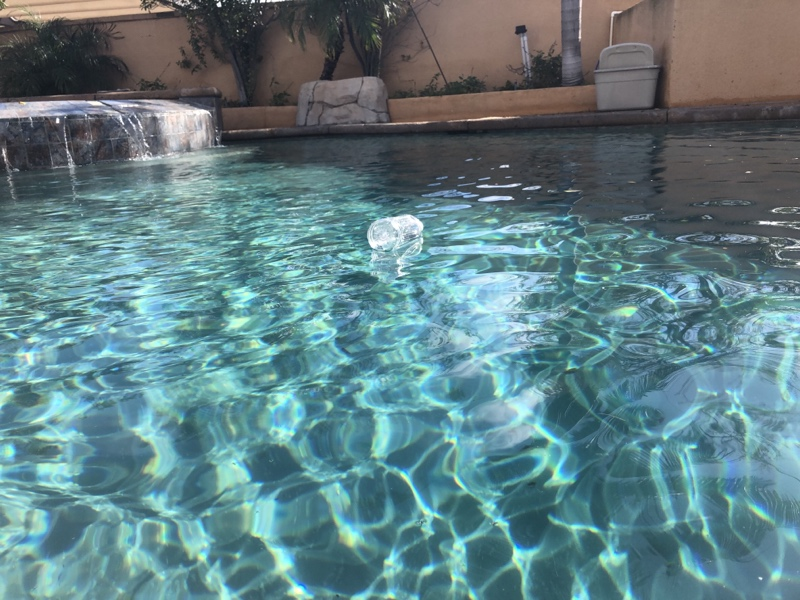Plastic Bottle: (361, 214, 429, 252)
